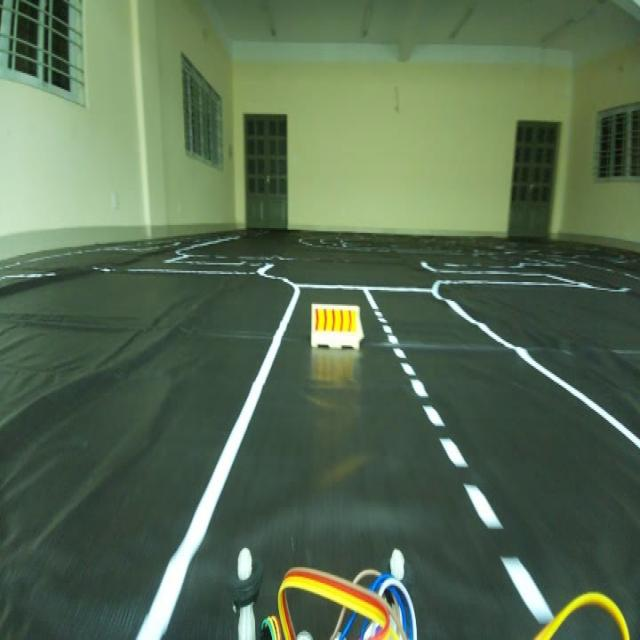roadblock: (308, 295, 372, 361)
